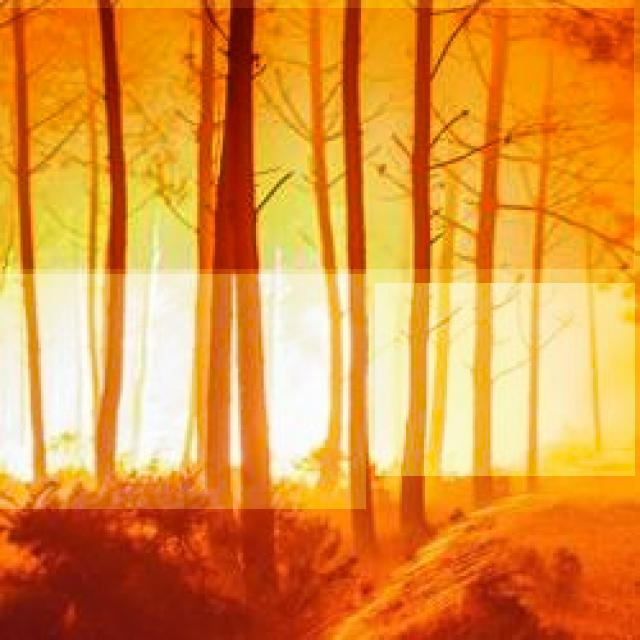Fire: (0, 274, 366, 509)
Smoke: (0, 8, 634, 269), (376, 283, 636, 476)
